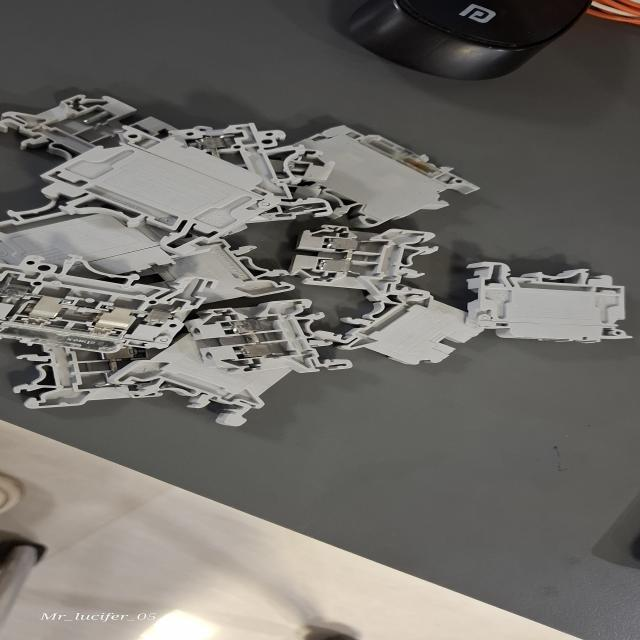Inverted: (324, 290, 506, 366)
Pass: (282, 222, 438, 302), (182, 300, 344, 374)
